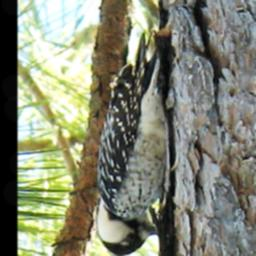Woodpecker: (95, 27, 171, 256)
